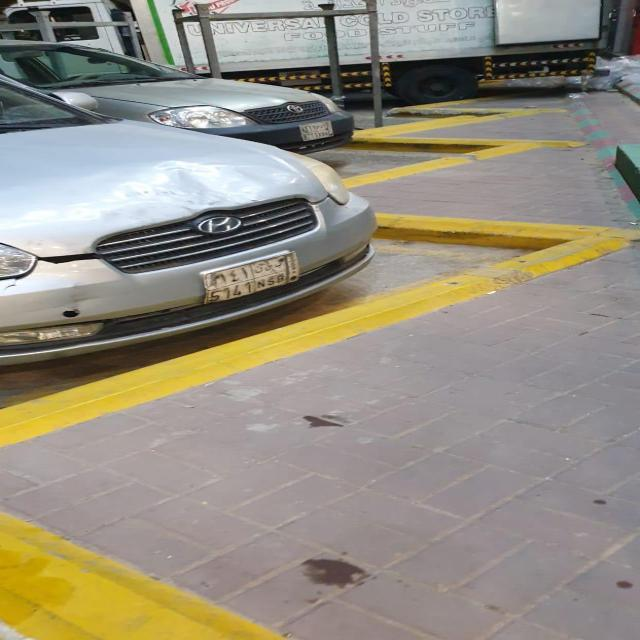license_plate: (196, 249, 313, 305), (298, 120, 336, 142)
